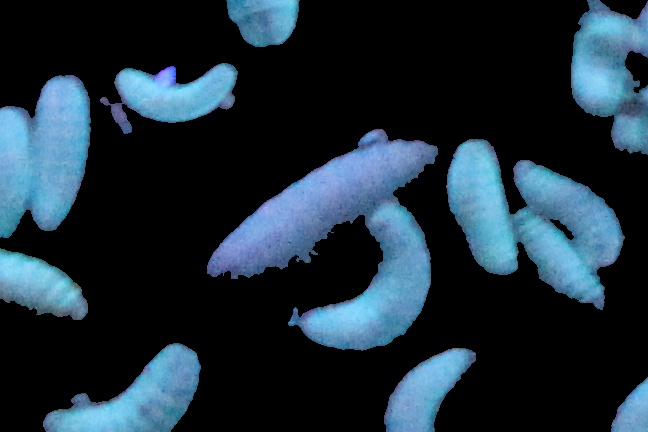larvae: (210, 134, 439, 295), (299, 194, 432, 351), (46, 343, 202, 432), (515, 159, 619, 268), (446, 135, 516, 280), (31, 74, 92, 227), (517, 208, 603, 308), (377, 346, 475, 432), (119, 66, 239, 122), (1, 253, 85, 327), (1, 108, 31, 240)
